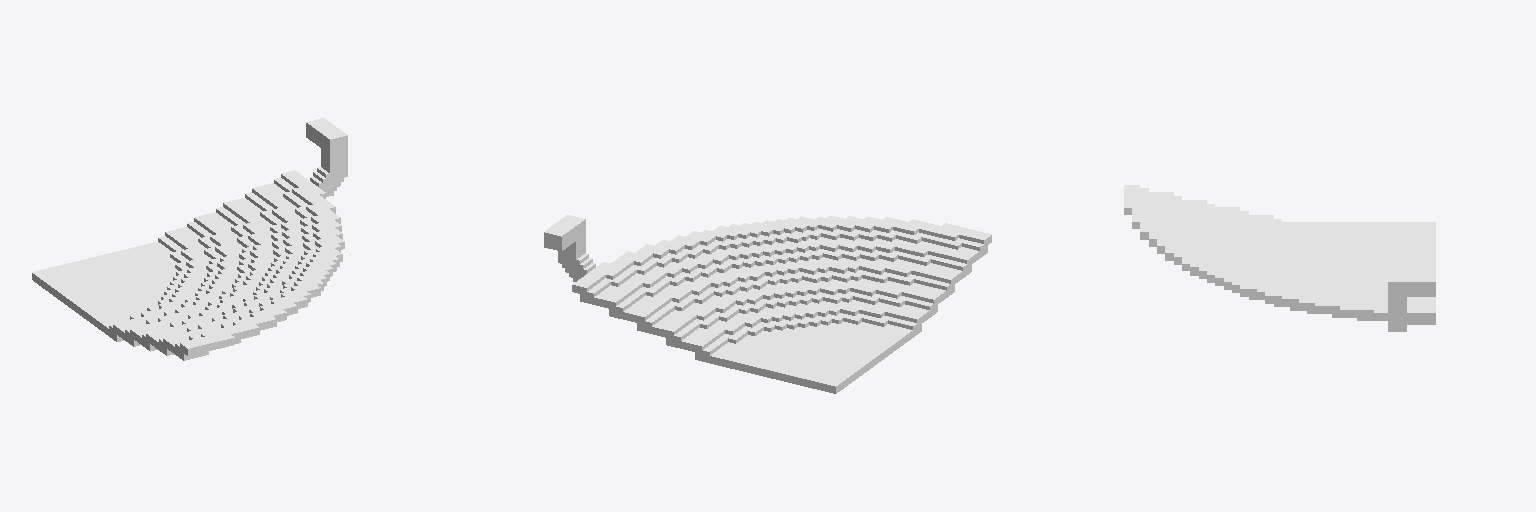
Rendered from Ledianky-1.obj.
The picture shows the model from 3 angles: view 1: azimuth 30°, elevation 25°; view 2: azimuth 150°, elevation 25°; view 3: azimuth 270°, elevation 25°; orthographic projection.
Visible parts, largest first — view 1: object 1; view 2: object 1; view 3: object 1.
Part boxes in pixels (left/top/right/bottom): object 1: left=32, top=118, right=347, bottom=360; object 1: left=544, top=215, right=991, bottom=393; object 1: left=1124, top=185, right=1435, bottom=331.
Size of the model in its own units: 16.2 by 4.8 by 15.